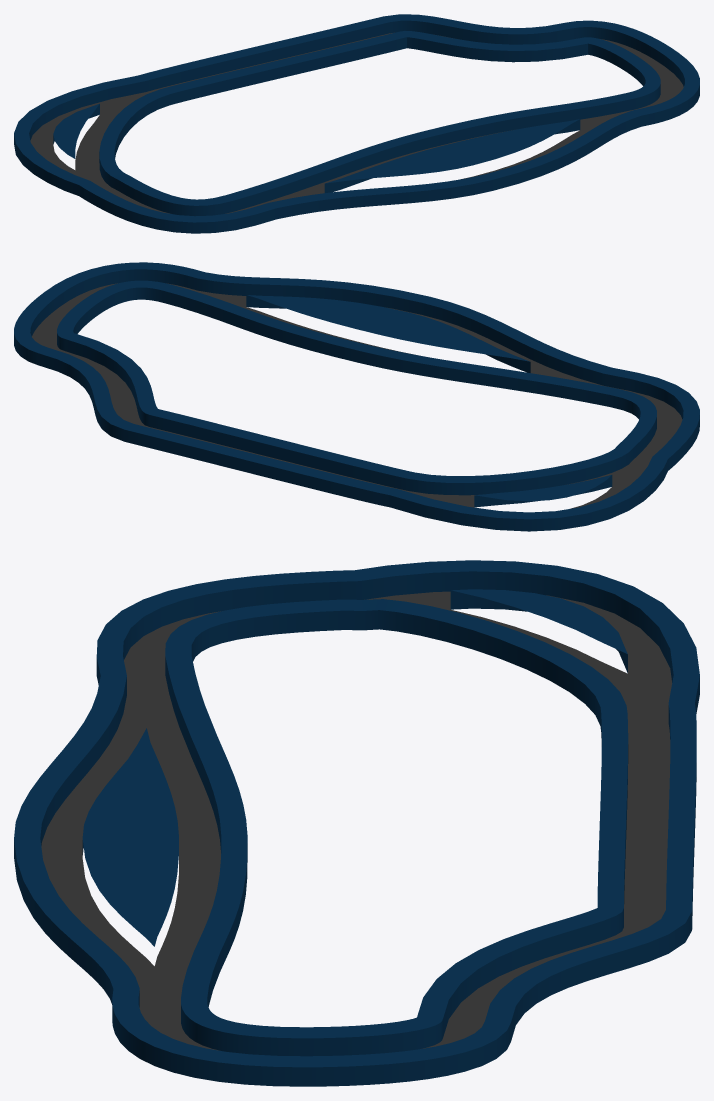
Rendered from GADE Racetrack.fbx.
3 renders of one model, top to bottom at view 1: azimuth 30°, elevation 25°; view 2: azimuth 150°, elevation 25°; view 3: azimuth 270°, elevation 25°, orthographic. The views are drawn at different scales.
Visible parts, largest first — view 1: Racetrack; view 2: Racetrack; view 3: Racetrack.
Boxes of the visible parts, x1,y1,x2,y2 form: Racetrack: (14,14,699,233); Racetrack: (14,262,699,531); Racetrack: (14,560,699,1086).
Bounding box in the file's own units: 851 × 15.98 × 487.
